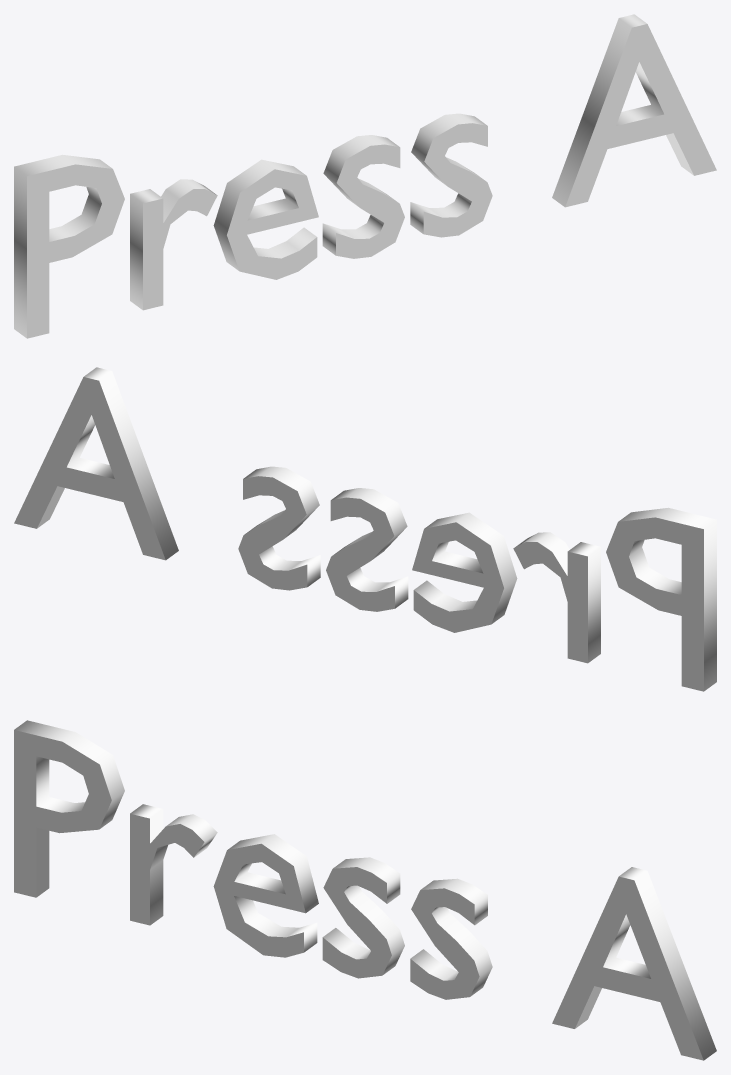
File: PressA.obj
The picture shows the model from 3 angles, top to bottom: view 1: azimuth 30°, elevation 25°; view 2: azimuth 150°, elevation 25°; view 3: azimuth 330°, elevation 25°; orthographic projection.
Visible parts, largest first — view 1: テキスト; view 2: テキスト; view 3: テキスト.
Part boxes in pixels (x1,y1,x2,y2): テキスト: (14, 14, 716, 338); テキスト: (14, 367, 716, 691); テキスト: (14, 720, 716, 1060).
Bounding box in the file's own units: 3.03 × 0.695 × 0.1.
